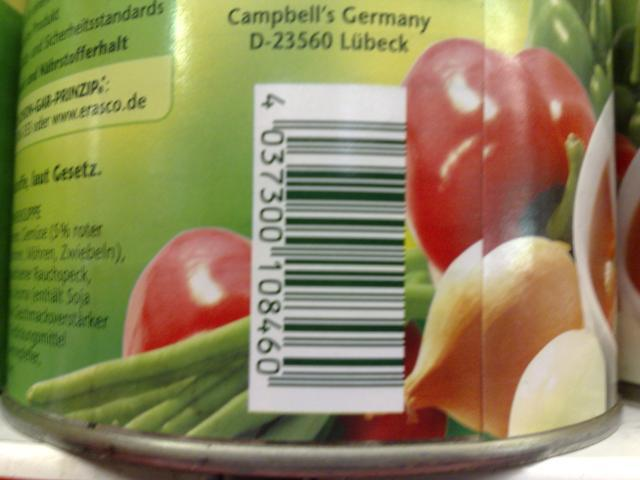Barcode: (250, 81, 407, 415)
